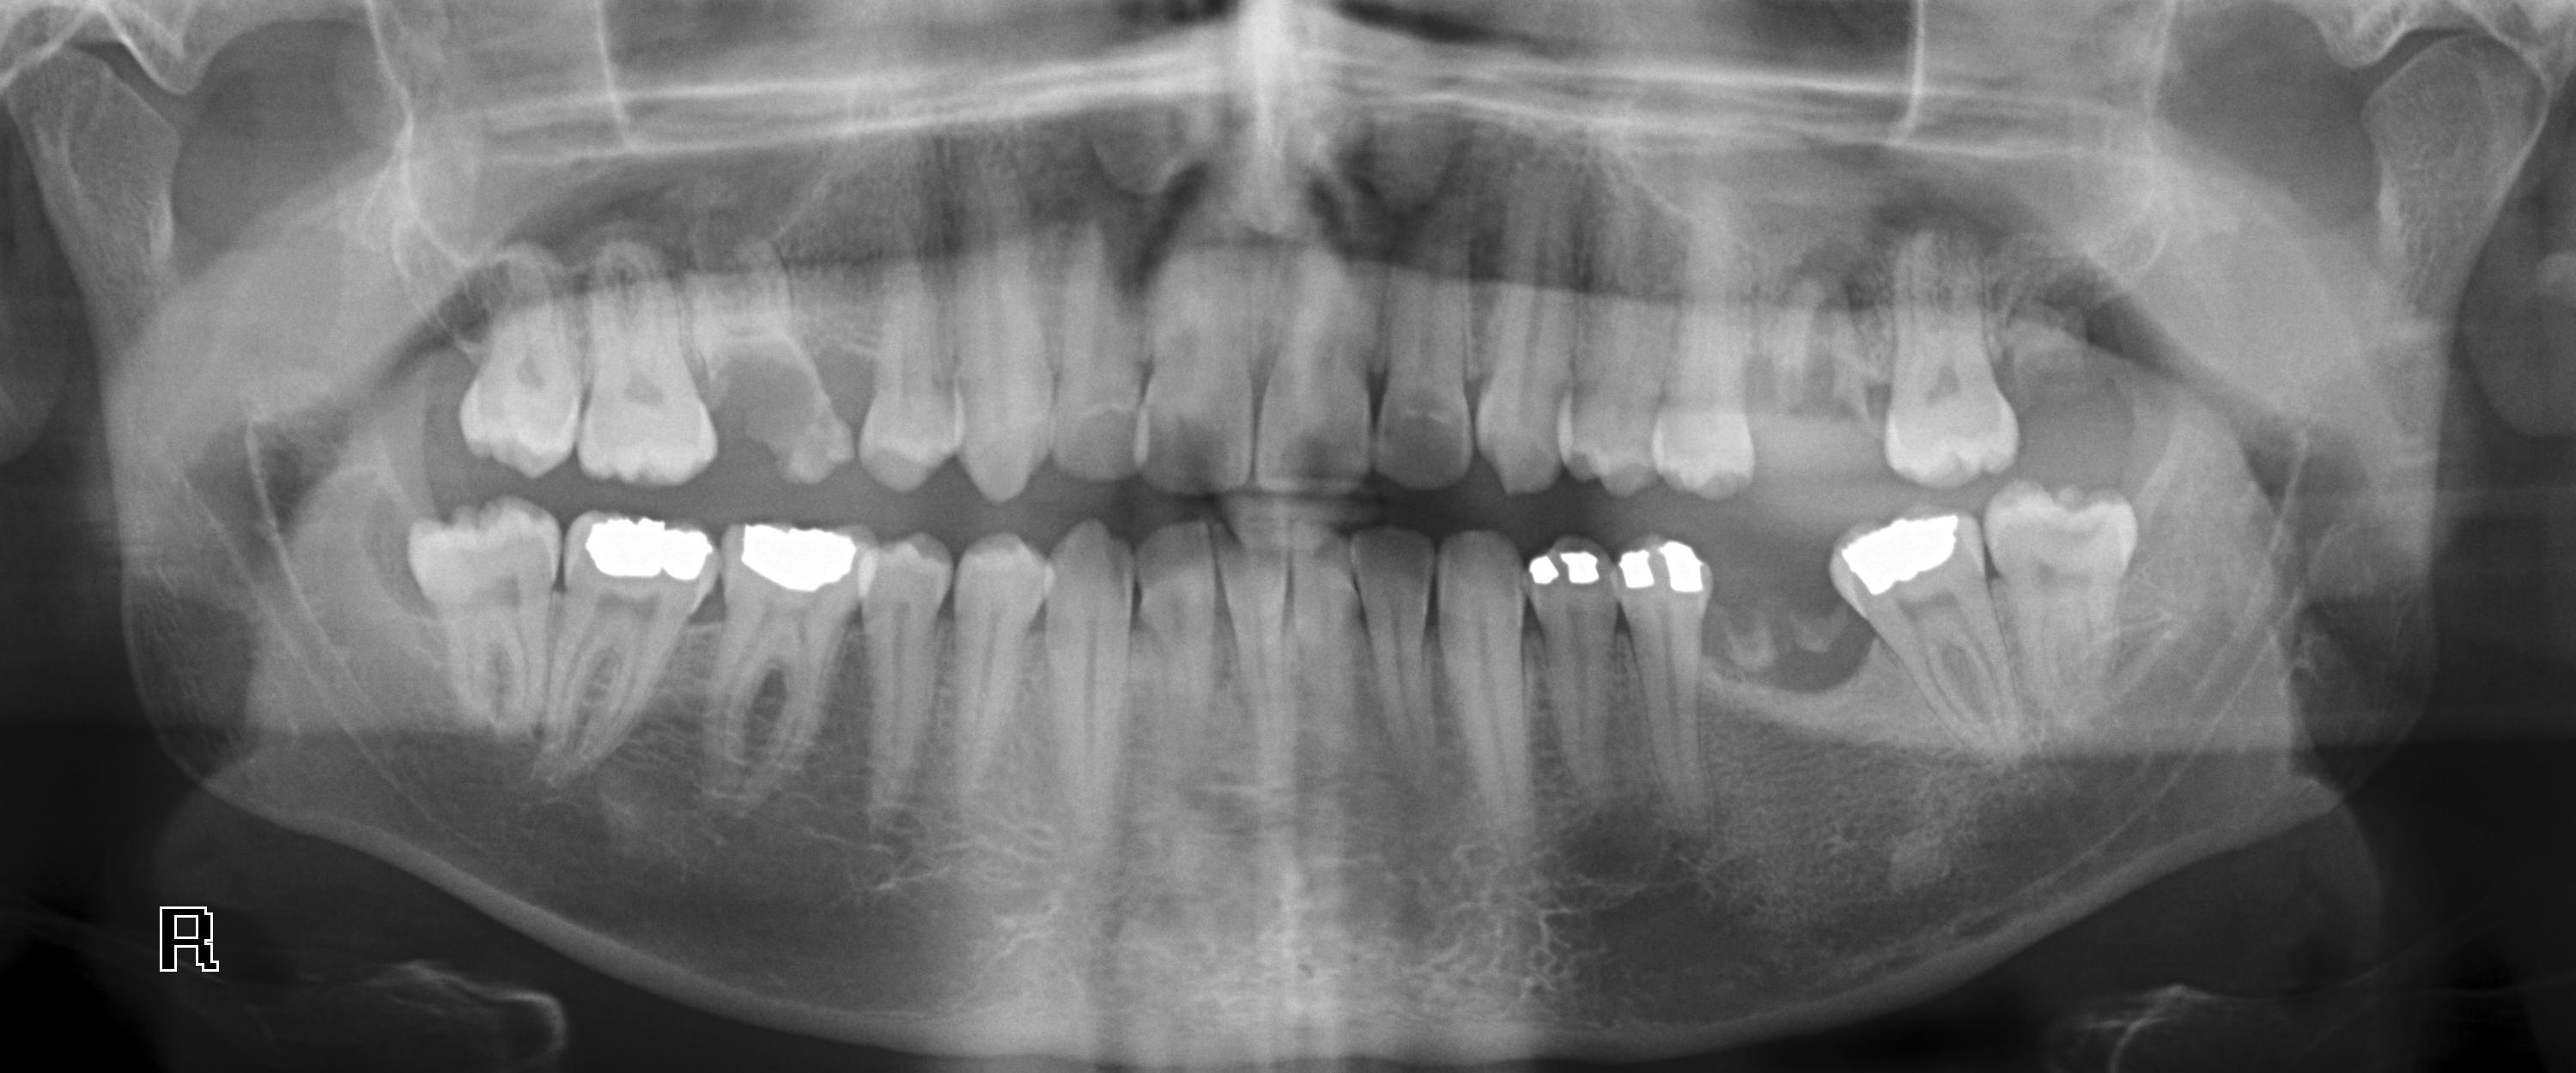Çürük: (1832, 513, 1973, 593), (578, 516, 713, 588), (736, 513, 856, 585), (1612, 539, 1718, 598), (1518, 546, 1598, 592)
Çürük Bölgesi: (703, 347, 831, 468)
